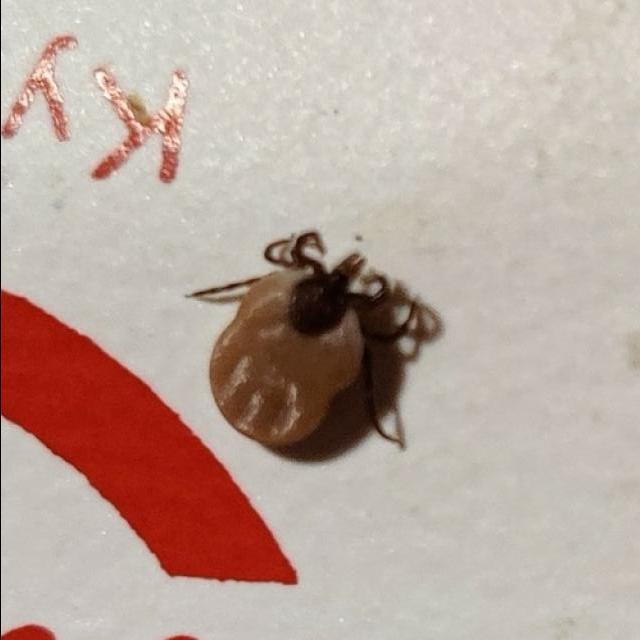Ixodes Ricinus-F-Fed: (190, 230, 441, 454)
